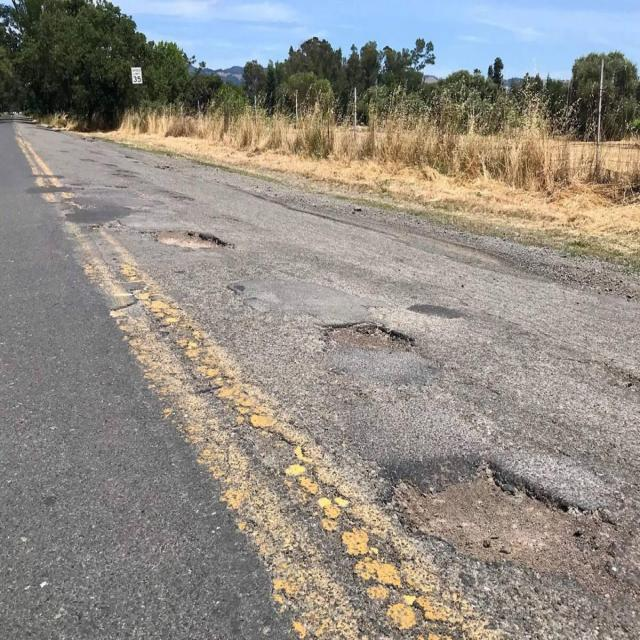Pothole: (398, 456, 627, 600), (318, 321, 415, 357), (151, 233, 228, 249)
